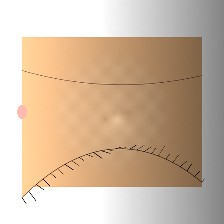corneal_ulcer: (81, 94, 141, 142)
